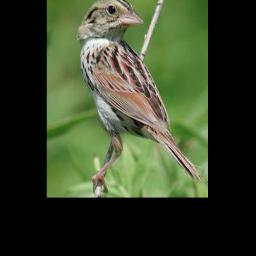Sparrow: (76, 0, 204, 194)
